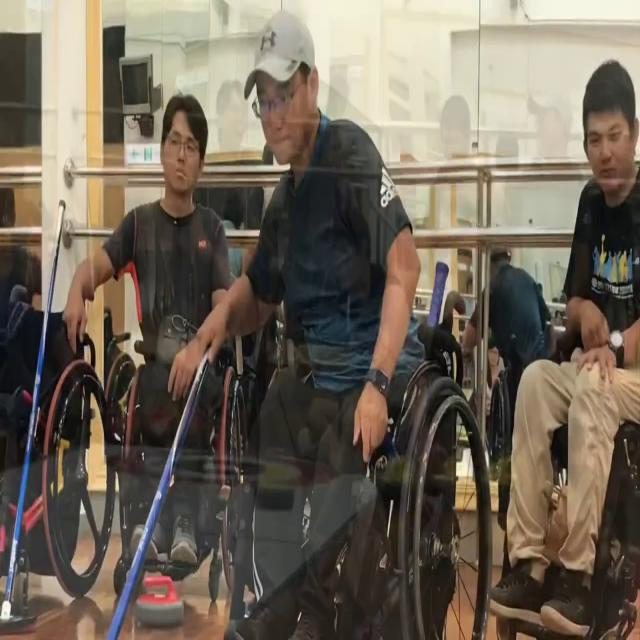wheelchairs: (206, 310, 494, 640), (495, 274, 640, 640), (95, 292, 252, 614), (0, 282, 113, 620)
